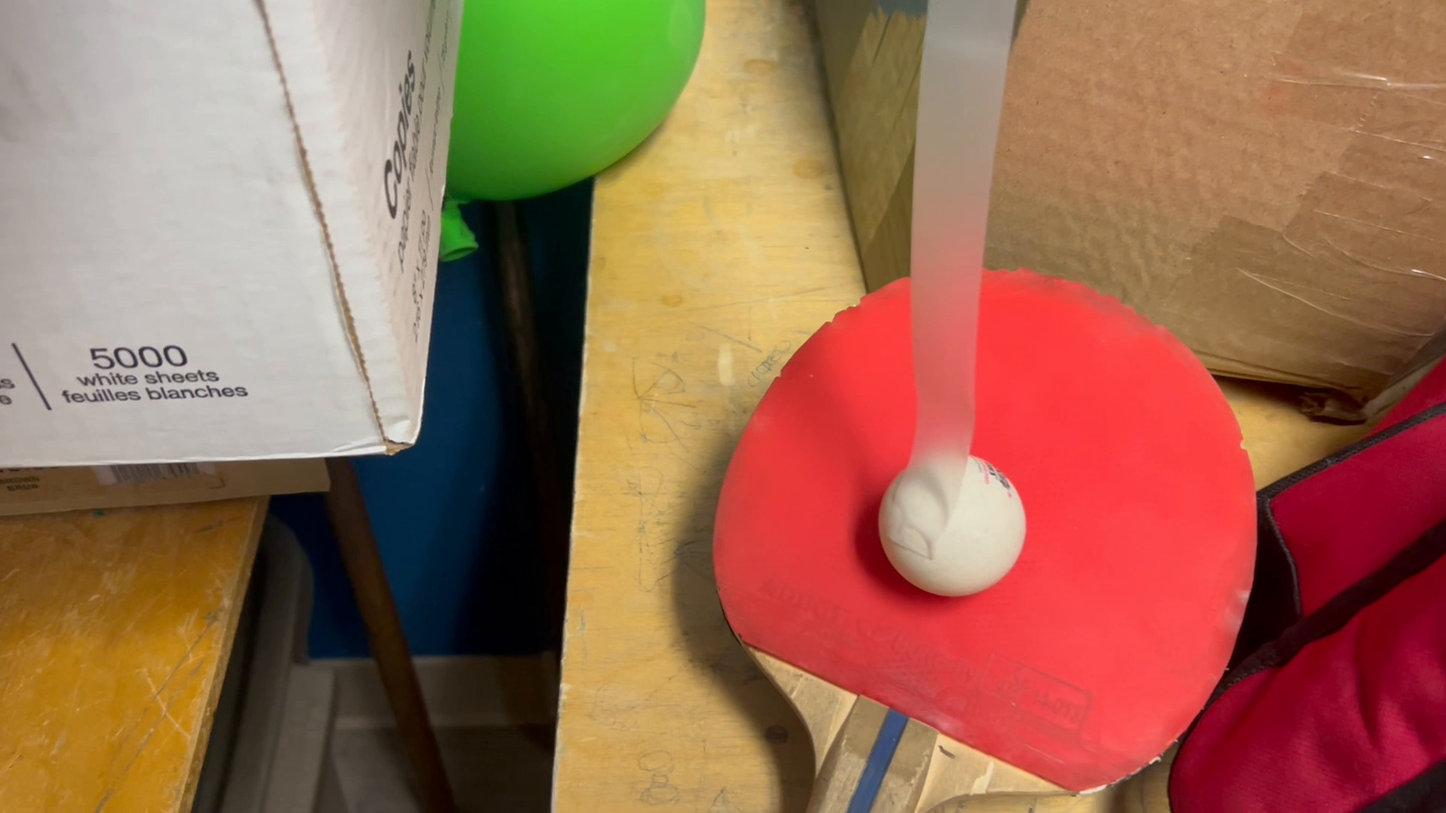Ball: (854, 452, 1042, 608)
